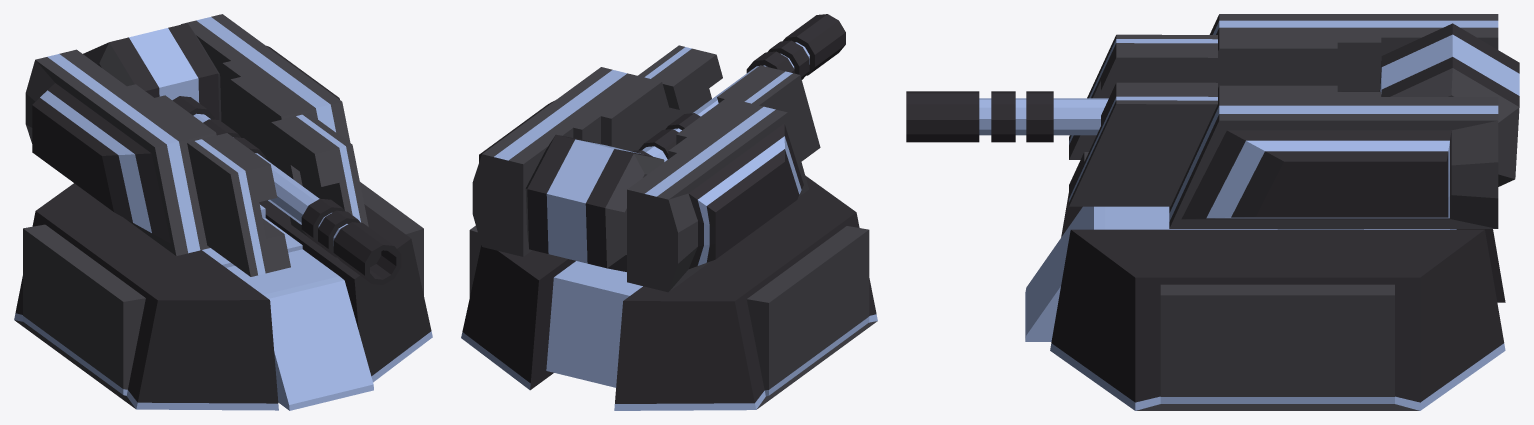
Rendered from upg_sniper2.fbx.
The picture shows the model from 3 angles, left to right: view 1: azimuth 30°, elevation 25°; view 2: azimuth 150°, elevation 25°; view 3: azimuth 270°, elevation 25°; orthographic projection. The views are drawn at different scales.
Parts seen in each view (by area): view 1: Cube.005, Cube.008; view 2: Cube.008, Cube.005; view 3: Cube.008, Cube.005.
Boxes of the visible parts, left/top/right/bottom form: Cube.005: left=14, top=182, right=432, bottom=410; Cube.008: left=25, top=14, right=401, bottom=284; Cube.008: left=472, top=14, right=845, bottom=292; Cube.005: left=461, top=175, right=877, bottom=410; Cube.008: left=906, top=14, right=1519, bottom=228; Cube.005: left=1025, top=193, right=1505, bottom=410.
Bounding box in the file's own units: 88.19 × 67.58 × 134.
